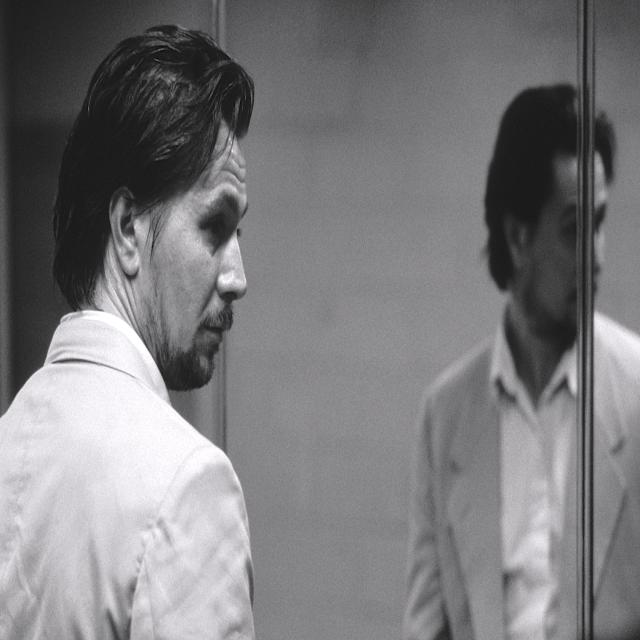no-earmuff: (98, 160, 159, 307), (497, 197, 548, 291)
